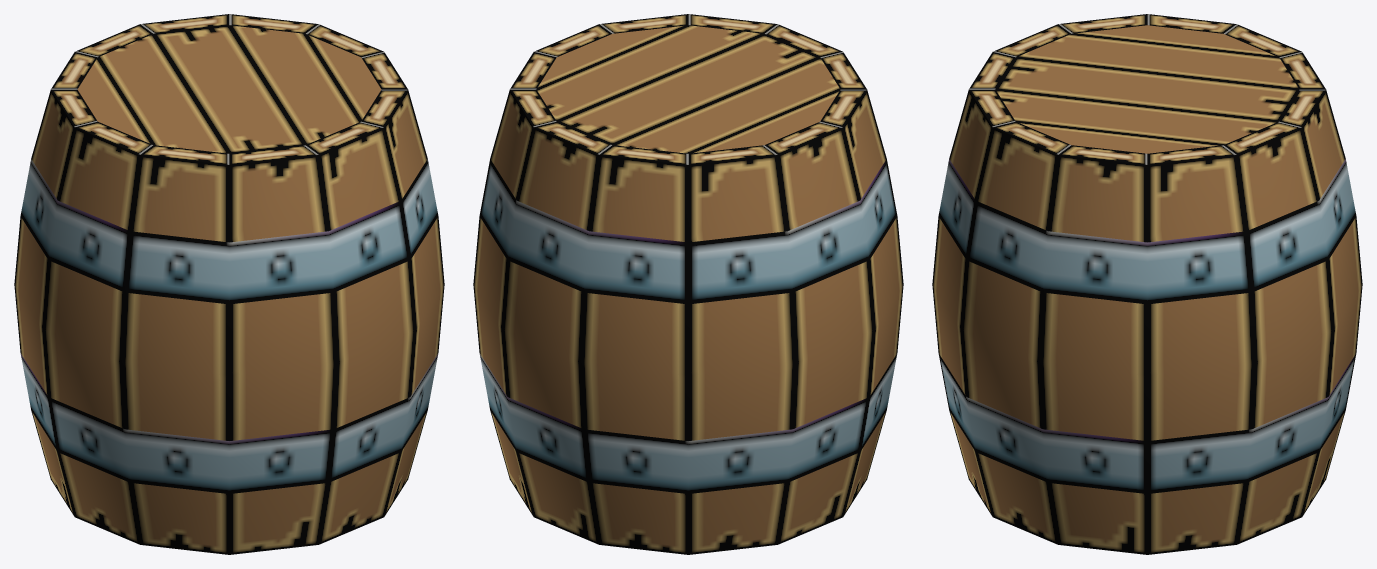
File: deco_barrel.FBX
3 renders of one model, left to right at view 1: azimuth 30°, elevation 25°; view 2: azimuth 150°, elevation 25°; view 3: azimuth 270°, elevation 25°, orthographic.
Visible parts, largest first — view 1: deco_barrel; view 2: deco_barrel; view 3: deco_barrel.
Part boxes in pixels (x1,y1,x2,y2): deco_barrel: (14,14,444,554); deco_barrel: (473,14,903,554); deco_barrel: (932,14,1362,554).
Bounding box in the file's own units: 2 × 2 × 2.
Materials: 1 (1 with a texture image).
